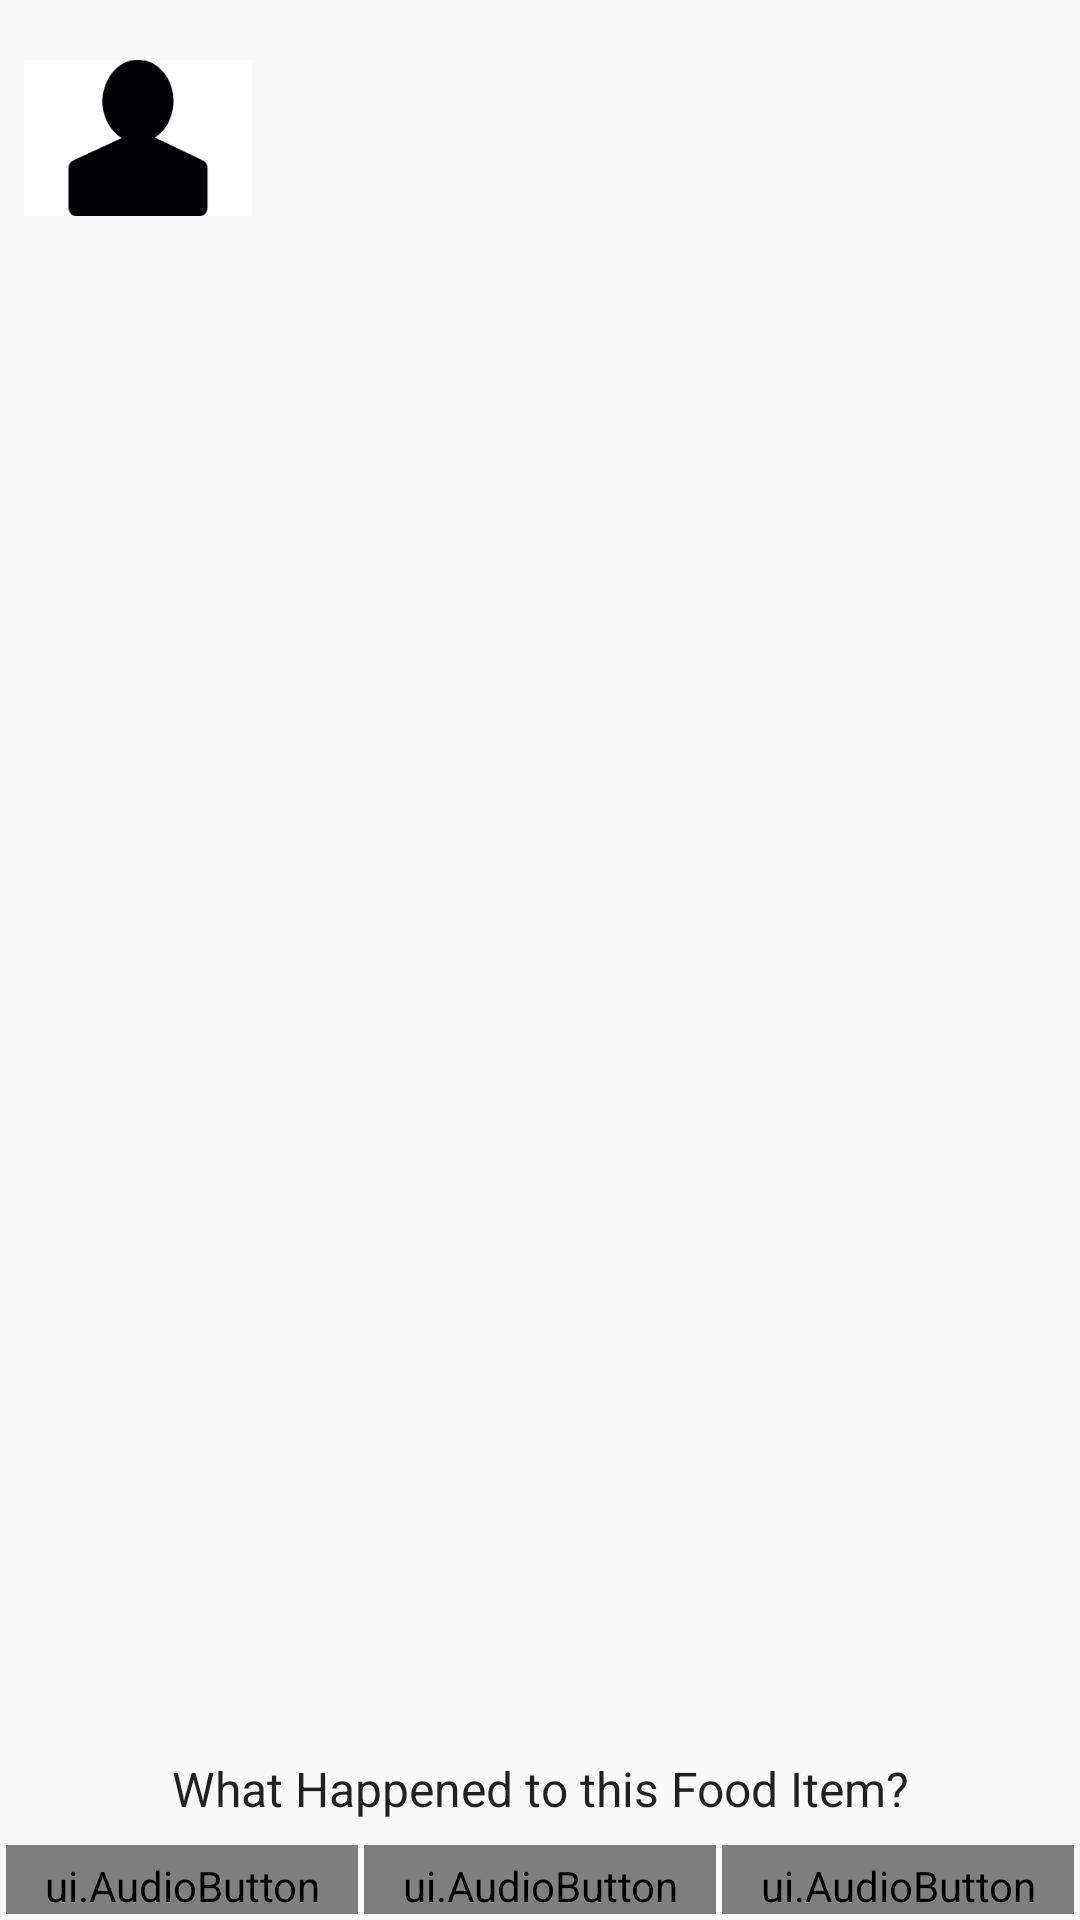

Where icons sit on this 1080x1920 app screen, as rect(x1, y1, x2, y2):
person: rect(68, 60, 208, 216)
